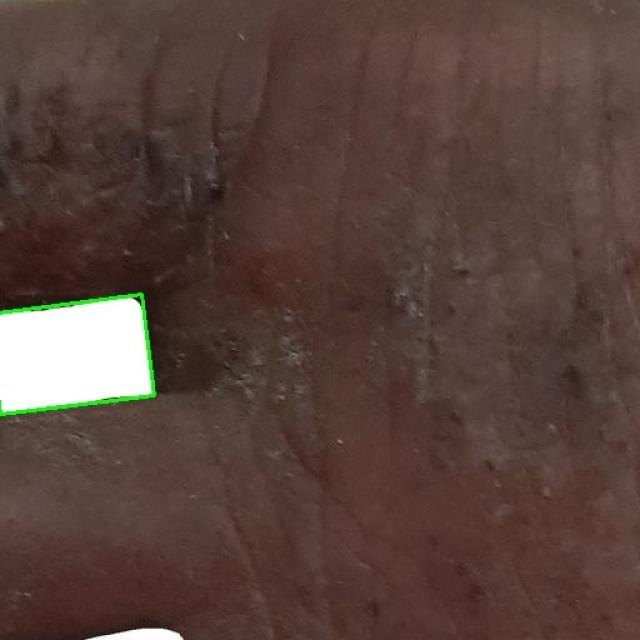Eczema: (0, 295, 155, 416)
